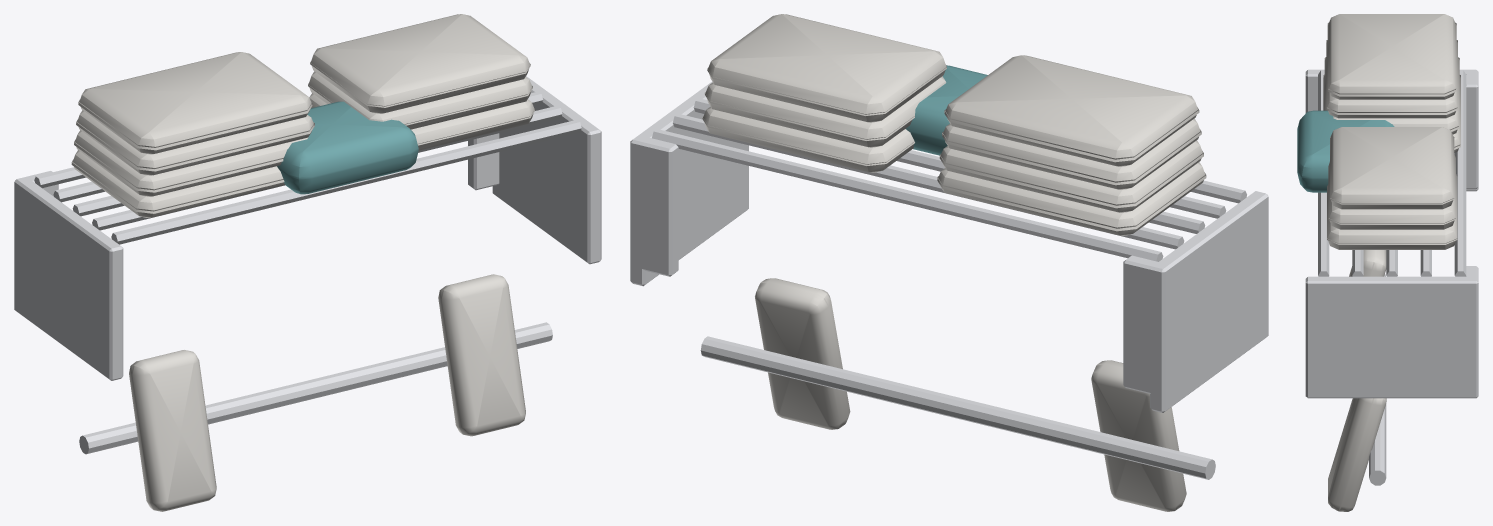
Rendered from towel-shelf-and-rail.glb.
The picture shows the model from 3 angles, left to right: view 1: azimuth 30°, elevation 25°; view 2: azimuth 150°, elevation 25°; view 3: azimuth 270°, elevation 25°; orthographic projection. The views are drawn at different scales.
Visible parts, largest first — view 1: towel-shelf-and-rail; view 2: towel-shelf-and-rail; view 3: towel-shelf-and-rail.
Part boxes in pixels (box(x1,y1,x2,y2)): towel-shelf-and-rail: box(14, 14, 601, 511); towel-shelf-and-rail: box(630, 14, 1268, 511); towel-shelf-and-rail: box(1297, 14, 1478, 511).
Size of the model in its own units: 0.7 by 0.5201 by 0.2515.
